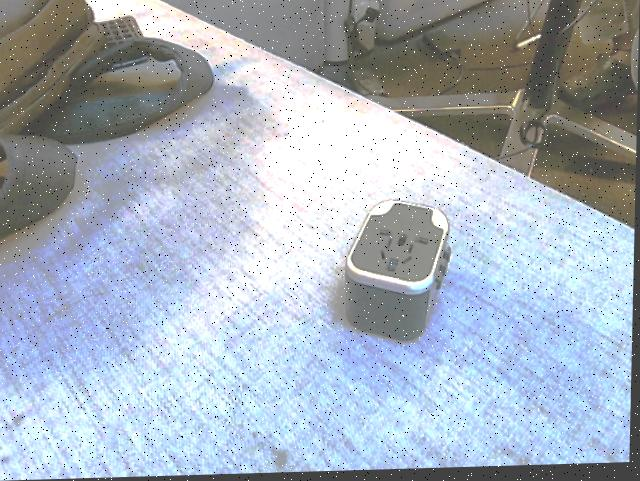adapter: (343, 199, 453, 344)
